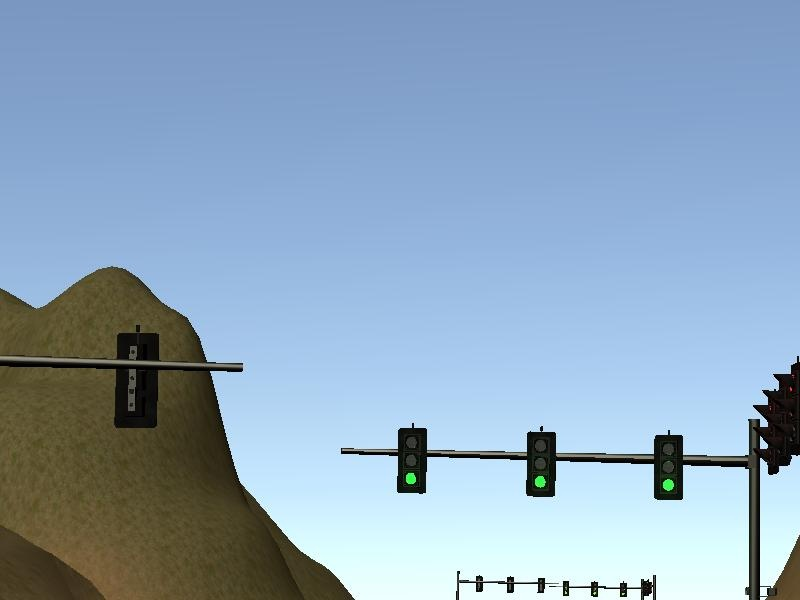traffic_light_green: (368, 423, 749, 504)
